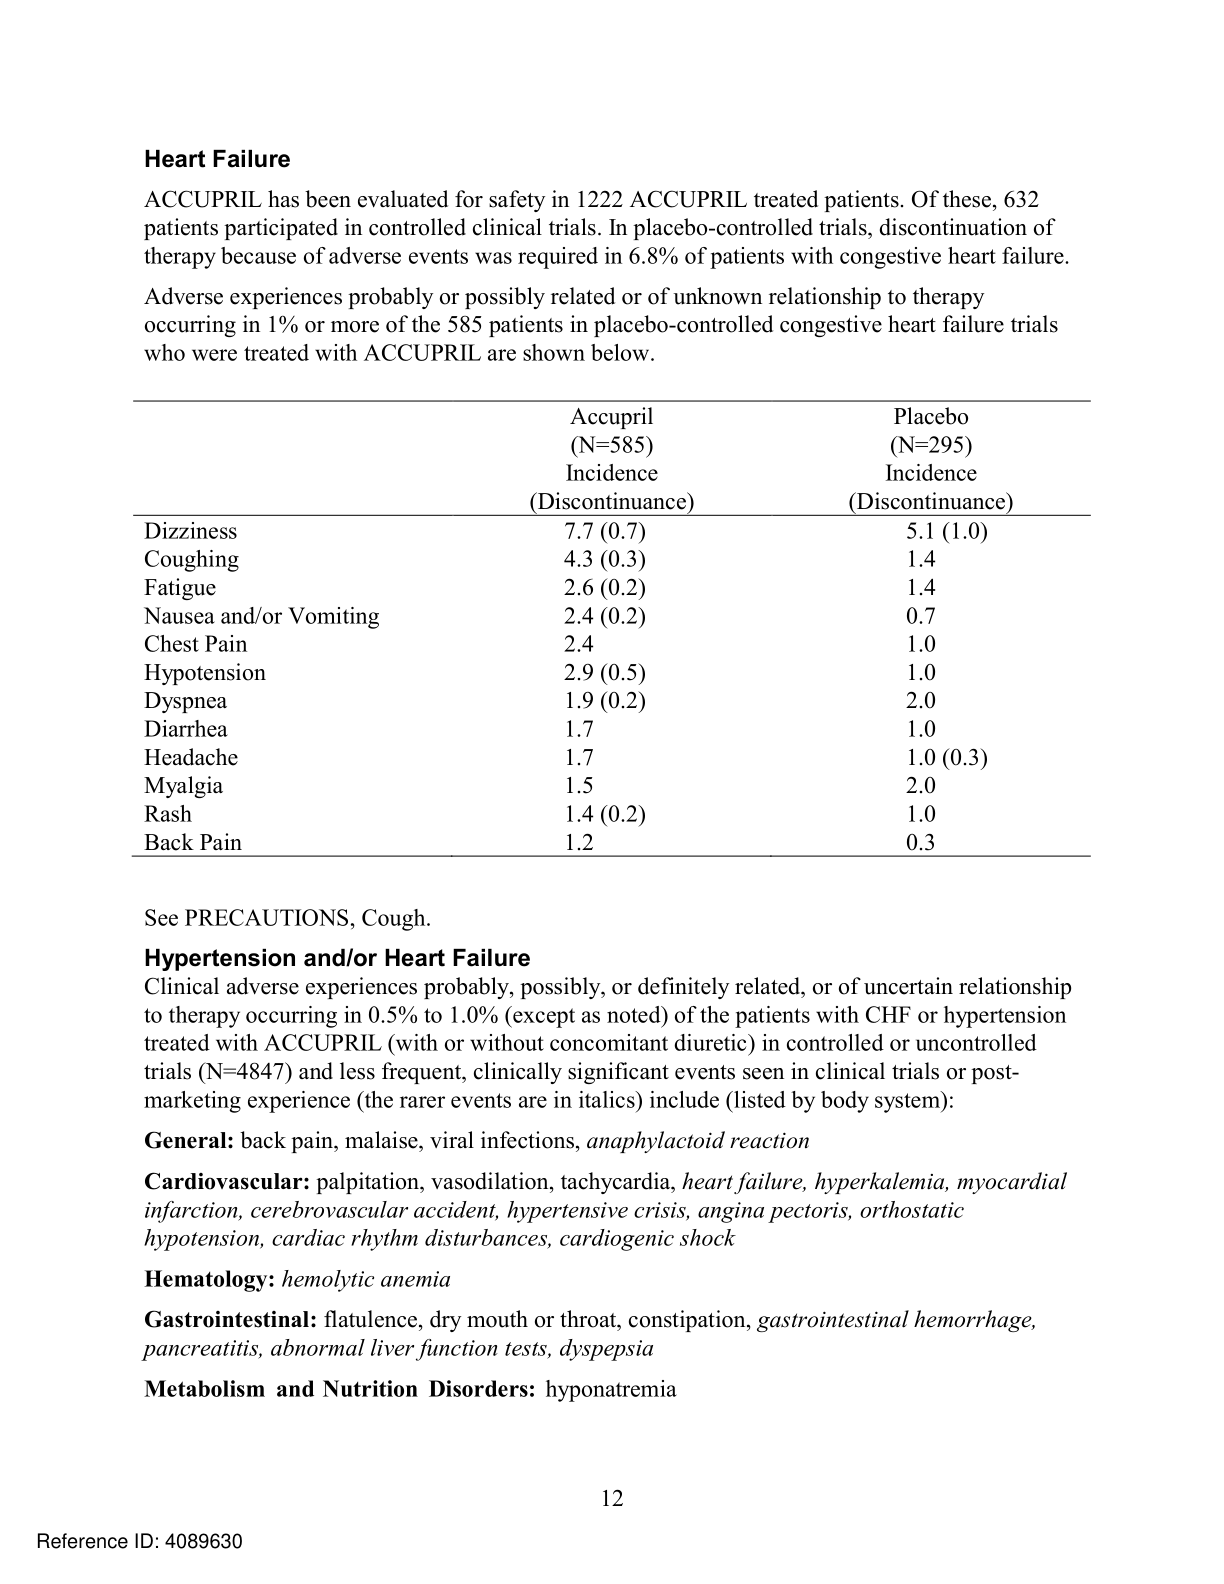partial_lined: (130, 396, 1092, 860)
